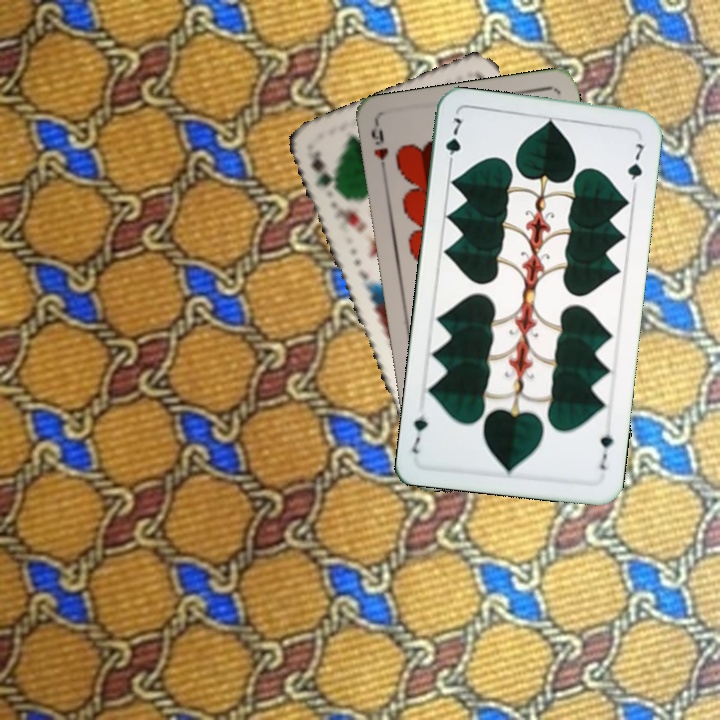G7: (441, 113, 467, 171), (595, 421, 616, 472)
GK: (306, 146, 342, 199)
H9: (367, 120, 391, 179)
